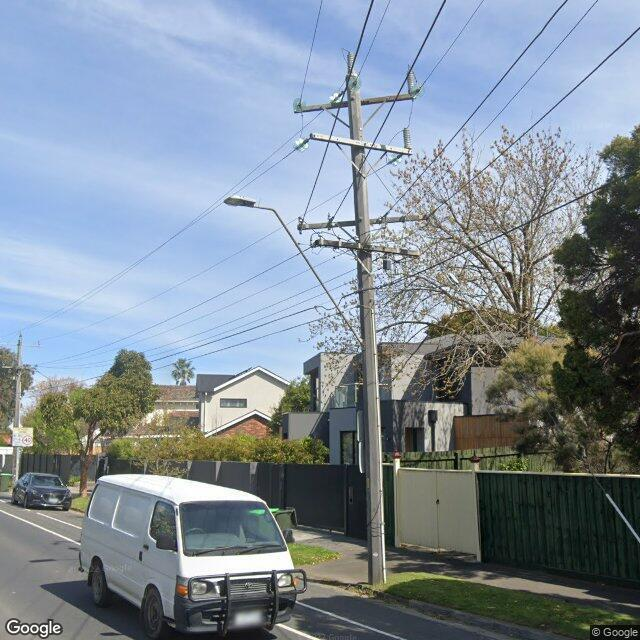HV-transmission: (292, 51, 423, 166), (0, 333, 40, 349)
concrete-pole: (347, 73, 387, 582), (12, 346, 22, 484)
crossarm: (294, 211, 426, 235), (310, 231, 421, 258), (310, 132, 412, 156), (302, 93, 413, 113), (0, 363, 37, 370), (2, 345, 38, 347)
streetlight: (224, 195, 364, 350)
